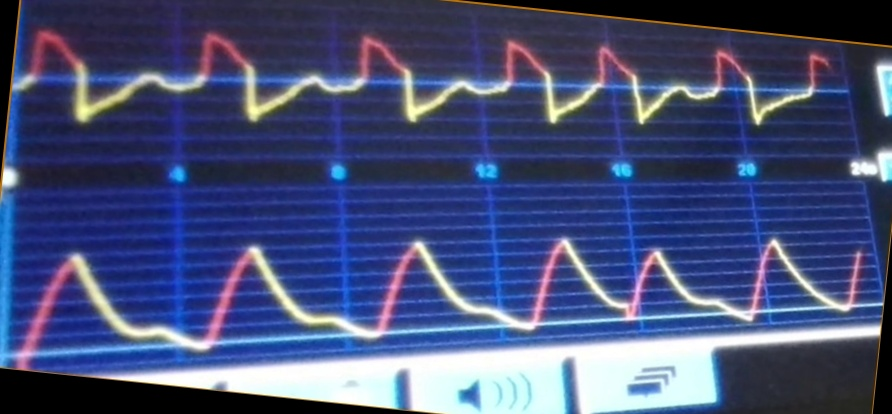Ineffective_effort Flow: (18, 25, 832, 145)
Ineffective_effort Volume: (18, 233, 865, 356)
